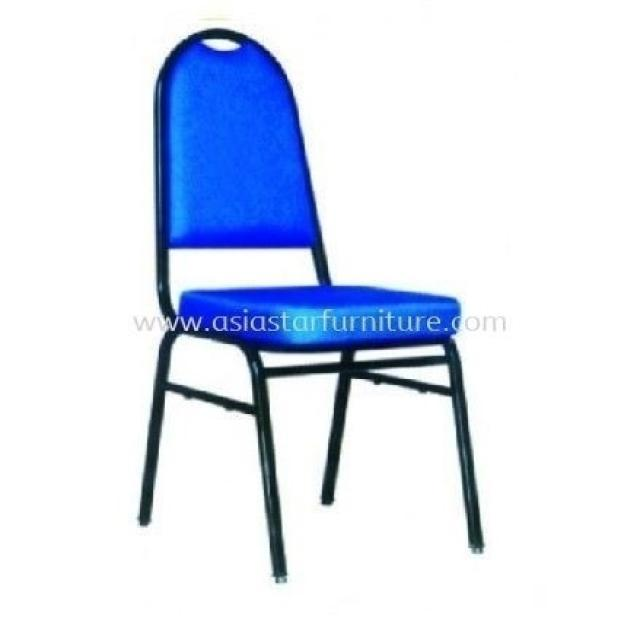chair: (138, 28, 488, 586)
